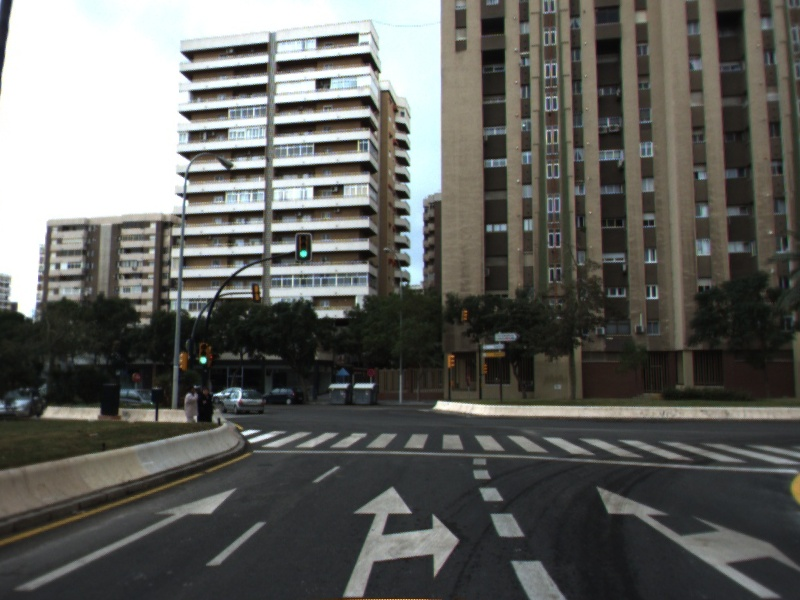STRAIGHT: (14, 484, 243, 592)
STRAIGHT_RIGHT: (593, 483, 800, 600), (339, 482, 463, 600)
